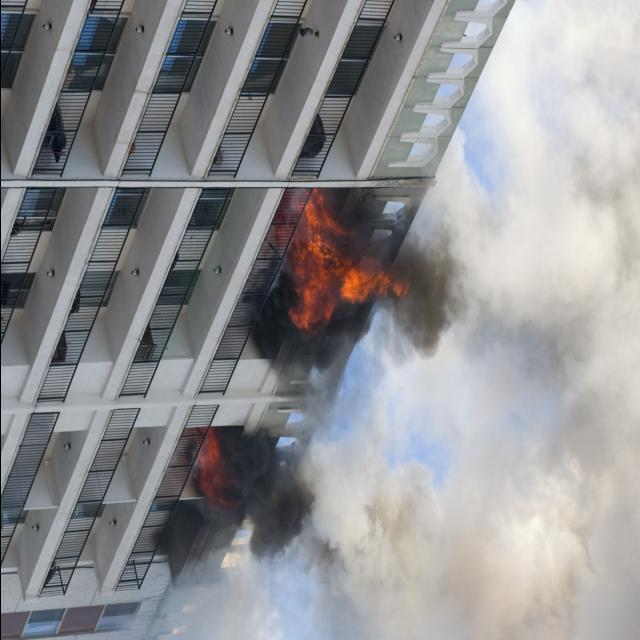Fire: (262, 198, 412, 329), (172, 408, 256, 508)
